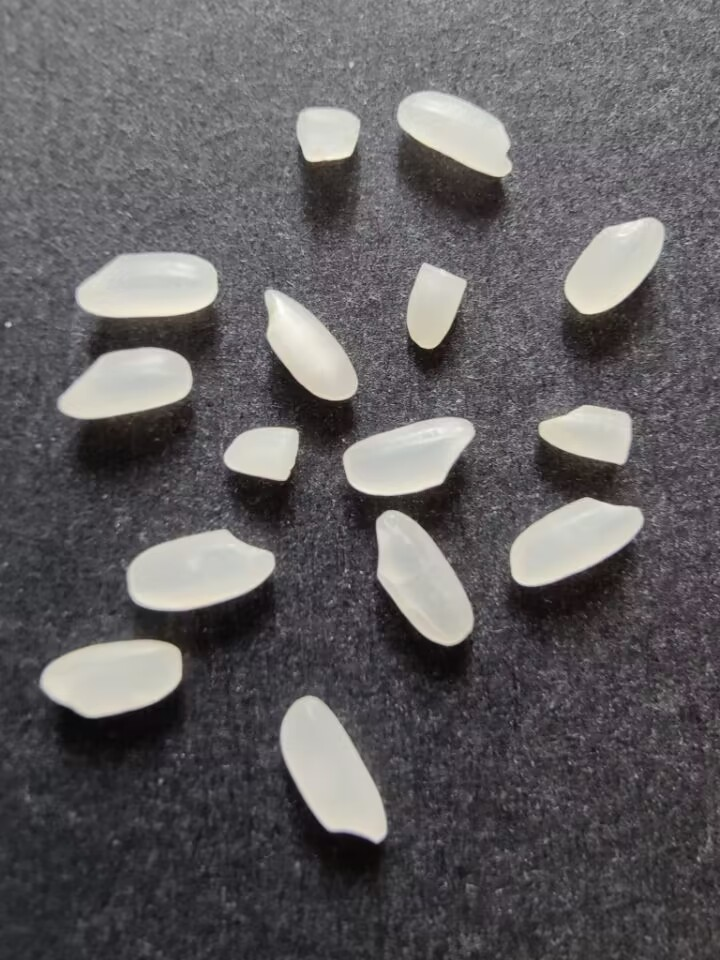broken: (535, 400, 636, 466), (403, 258, 470, 351), (220, 419, 306, 489), (289, 104, 360, 169)
rice: (279, 693, 391, 850), (370, 506, 476, 651), (123, 524, 282, 614), (505, 491, 649, 586), (257, 285, 363, 404), (35, 639, 183, 722), (392, 87, 518, 183), (559, 211, 671, 318), (49, 345, 195, 426), (340, 412, 479, 497), (73, 248, 219, 320)
